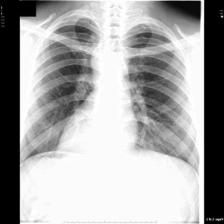tuberculosis: (23, 7, 202, 188)
